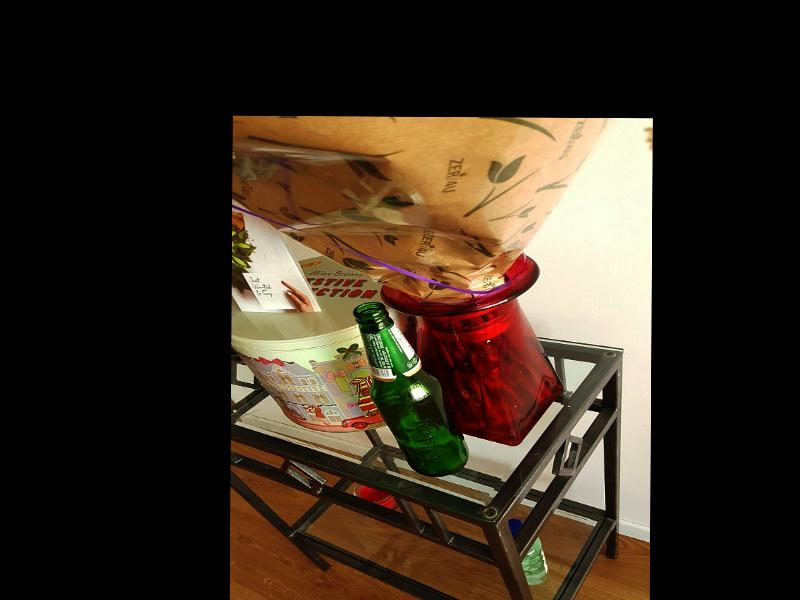Beer: (354, 301, 469, 476)
